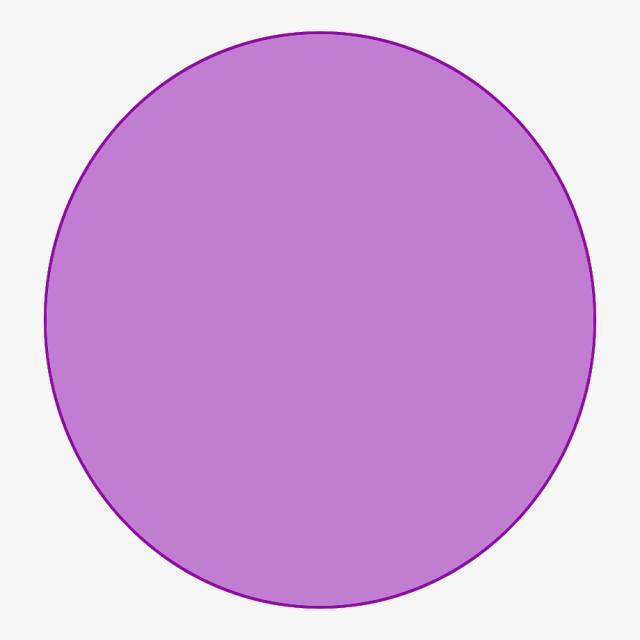Circle: (45, 26, 596, 608)
